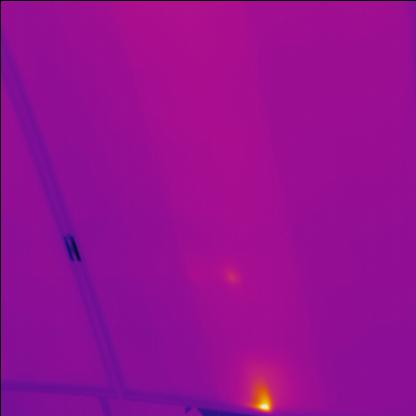hotspot: (244, 386, 282, 410)
